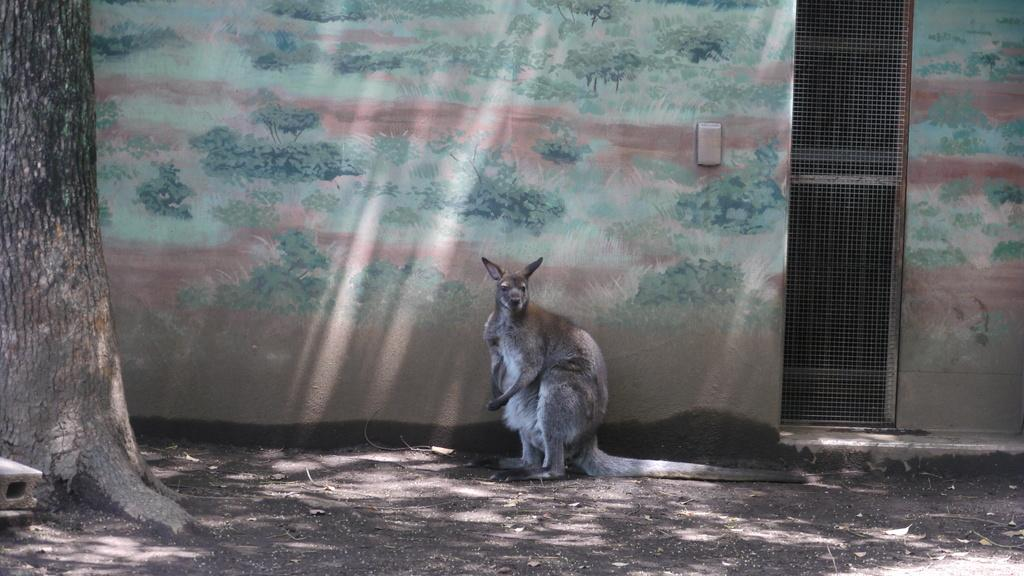kangaroo: (483, 258, 809, 484)
